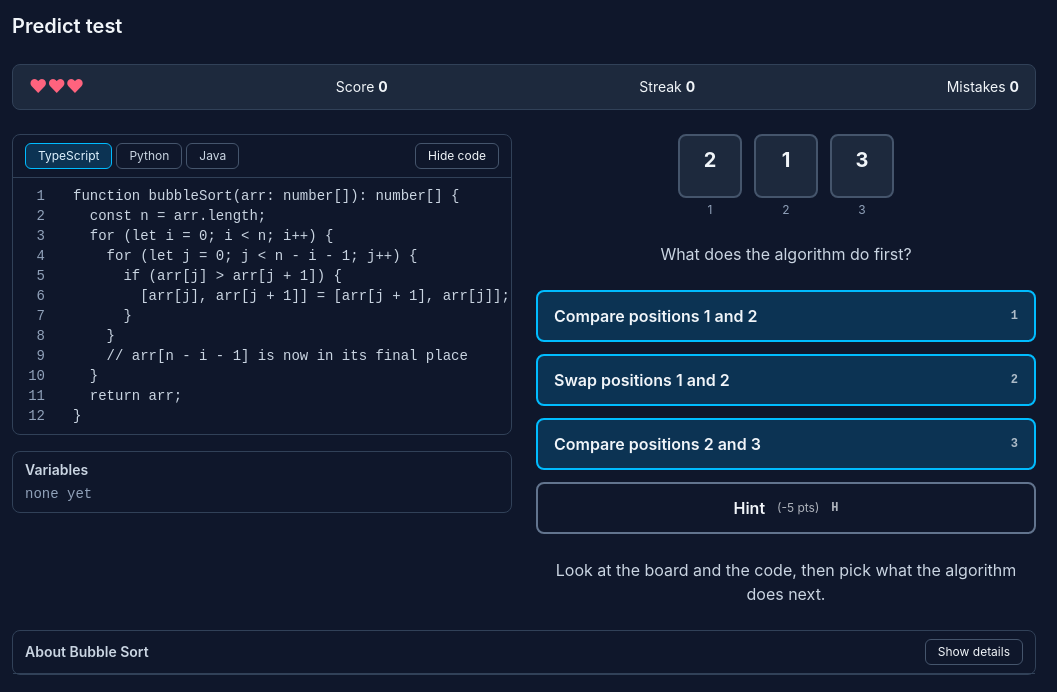
it: PredictScreen › a perfect run wins with 3 stars and reports once
What coordinates should you click on to do the following:
click the button "Compare positions 1 and 2 1"
I would click on:
 (656, 316)
Its box is [536,290,1036,342].
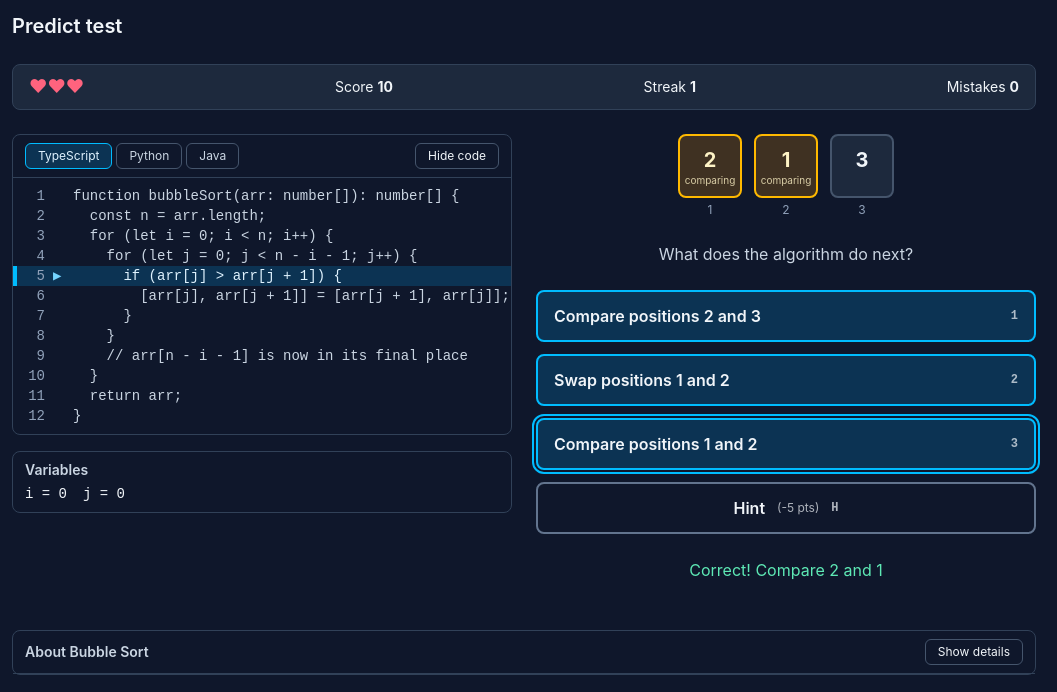
What coordinates should you click on to do the following:
click the button "Swap positions 1 and 2 2"
I would click on:
 (642, 380)
Its box is [536,354,1036,406].
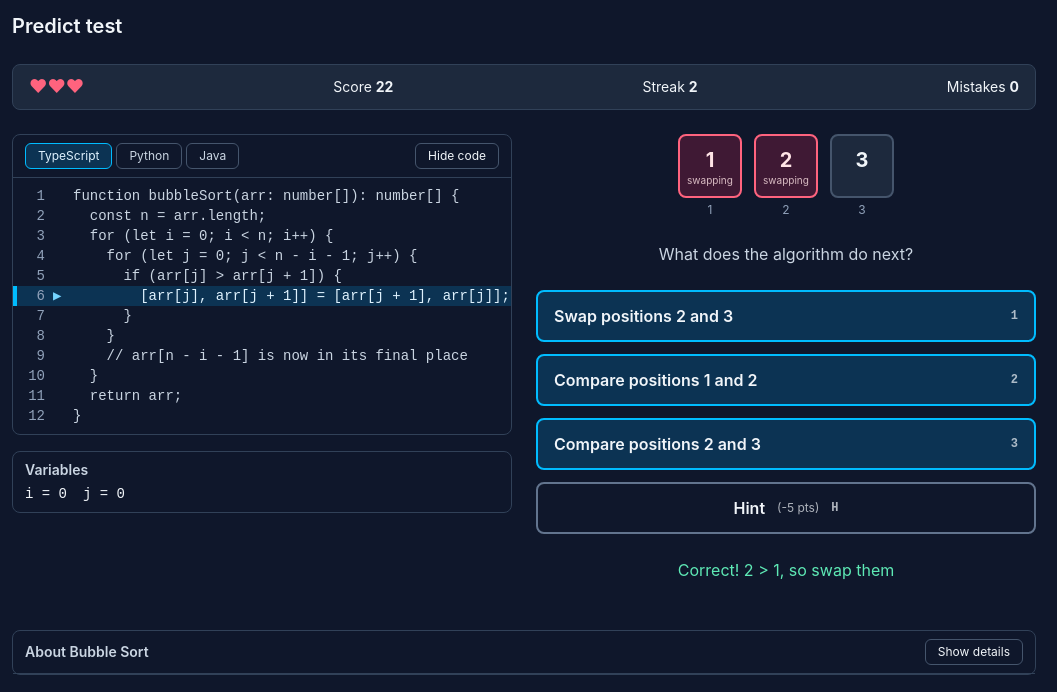
What coordinates should you click on to do the following:
click the button "Compare positions 2 and 3 3"
I would click on:
 (657, 444)
Its box is [536,418,1036,470].
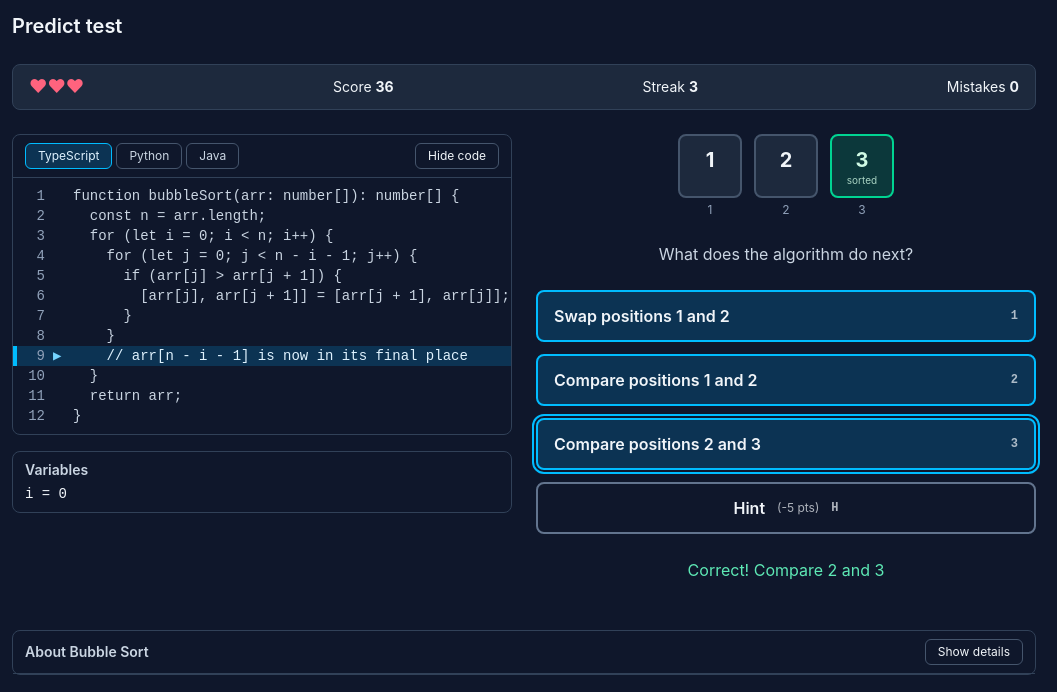
What coordinates should you click on to do the following:
click the button "Compare positions 1 and 2 2"
I would click on:
 (656, 380)
Its box is [536,354,1036,406].
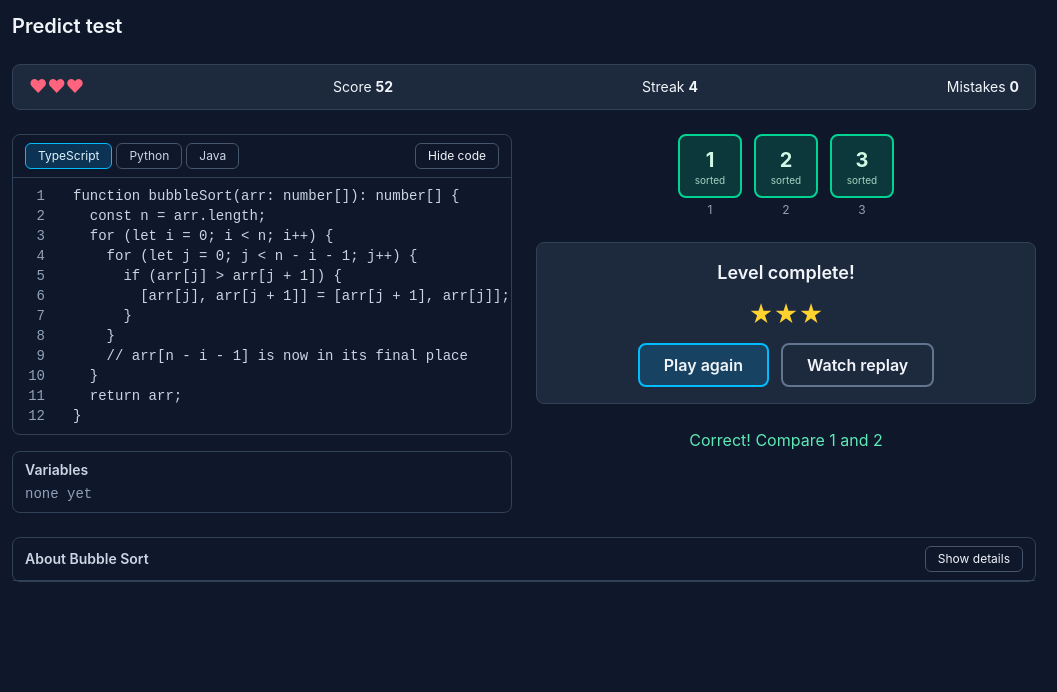
Result: the text "Level complete!" is shown at [717,259,855,287]
Result: the picture named "3 of 3 stars" is shown at [748,299,824,331]
